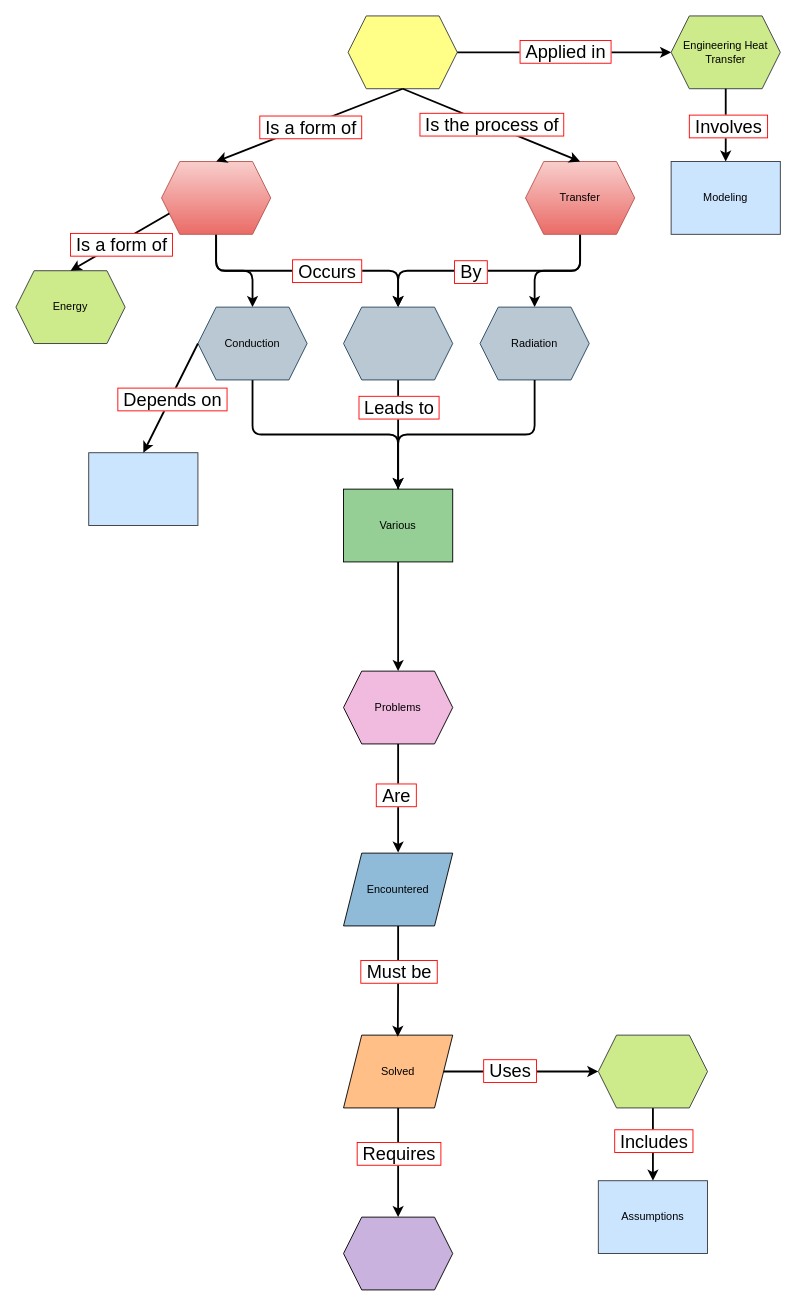
The diagram is 796 pixels wide and 1306 high, and some of its shapes have lost their labels. Here are the shapes that lost their labels. From the top down, the centre of each, then its label:
At point 402,52: "Heat Transfer".
At point 216,197: "Heat".
At point 398,343: "Convection".
At point 143,489: "Thermal Conductivity".
At point 652,1071: "Problem Solving Technique".
At point 398,1253: "Practice".
